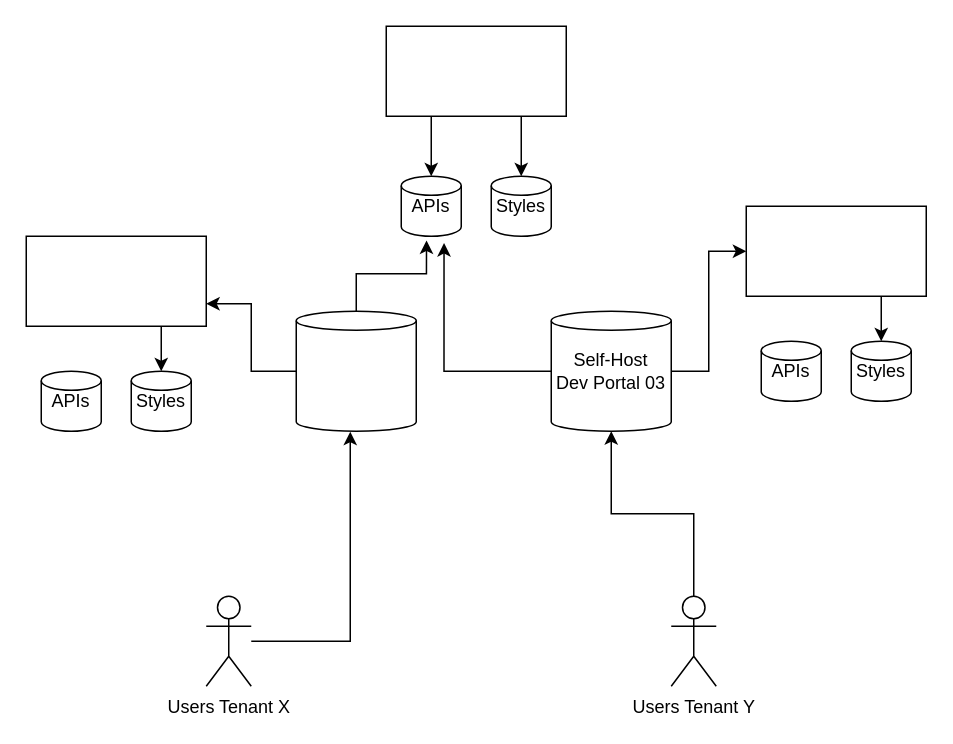
The diagram is 953 pixels wide and 744 high, and some of its shapes have lost their labels. Each missing label, with the centre of its shape:
"APIM 01 (MAIN)" goes at point (475, 70).
"APIM 02 Tenant X" goes at point (115, 280).
"APIM 03 Tenant Y" goes at point (835, 250).
"Self-Host Dev Portal 02" goes at point (355, 370).
